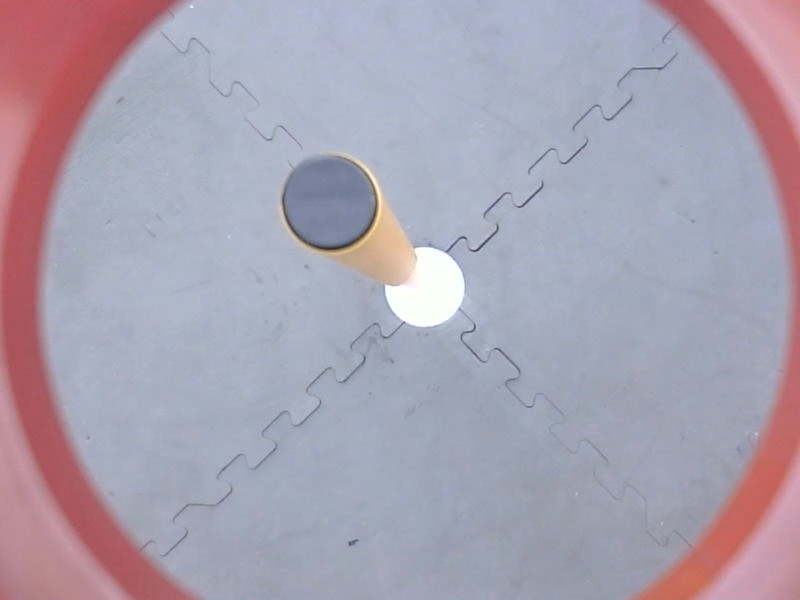tip: (271, 147, 389, 262)
